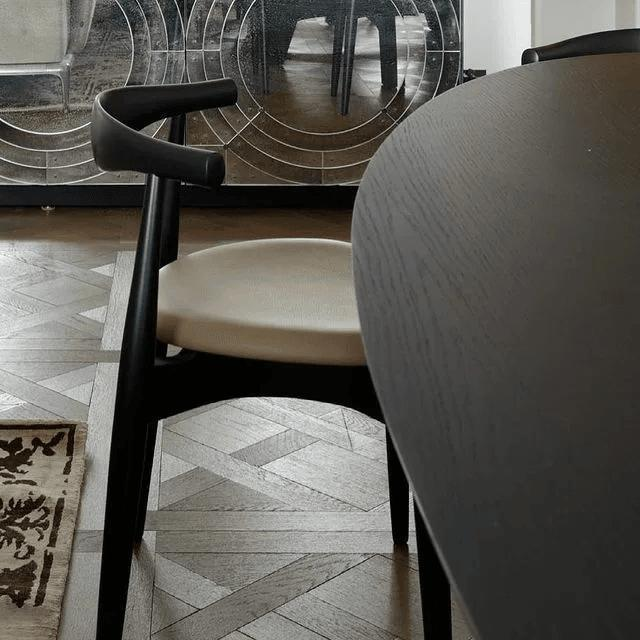chair: (87, 72, 460, 640), (92, 69, 465, 430)
